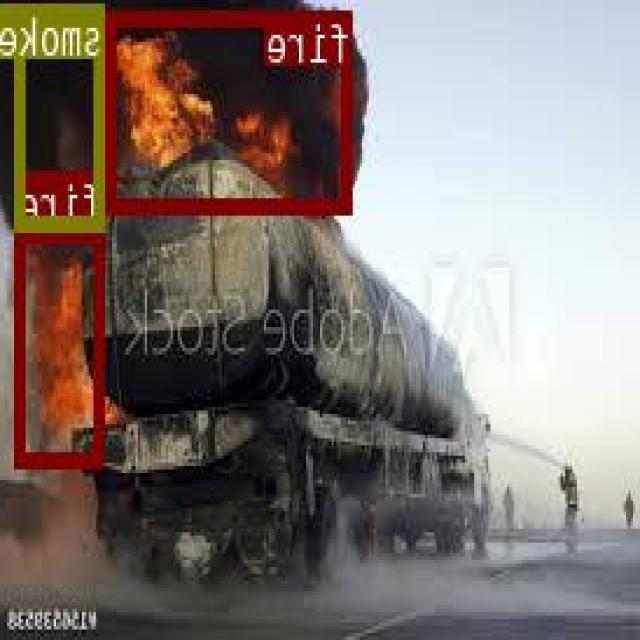fire: (110, 8, 353, 209), (18, 225, 107, 464)
smoke: (17, 3, 106, 229)
